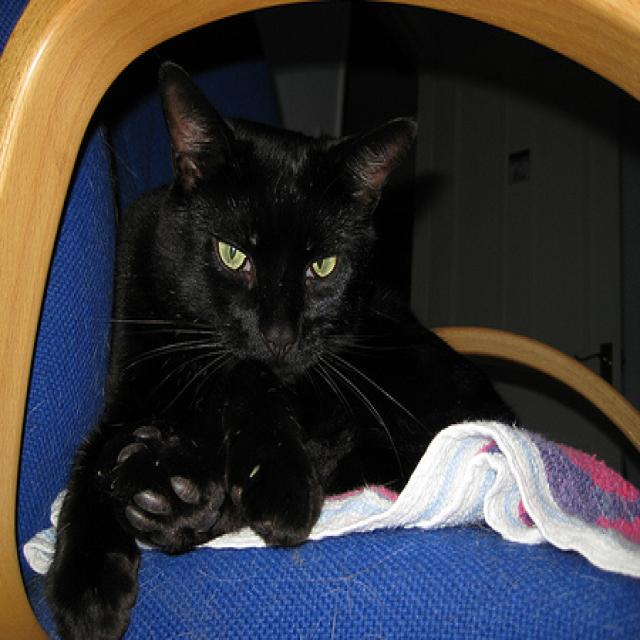Bombay: (47, 49, 519, 640)
